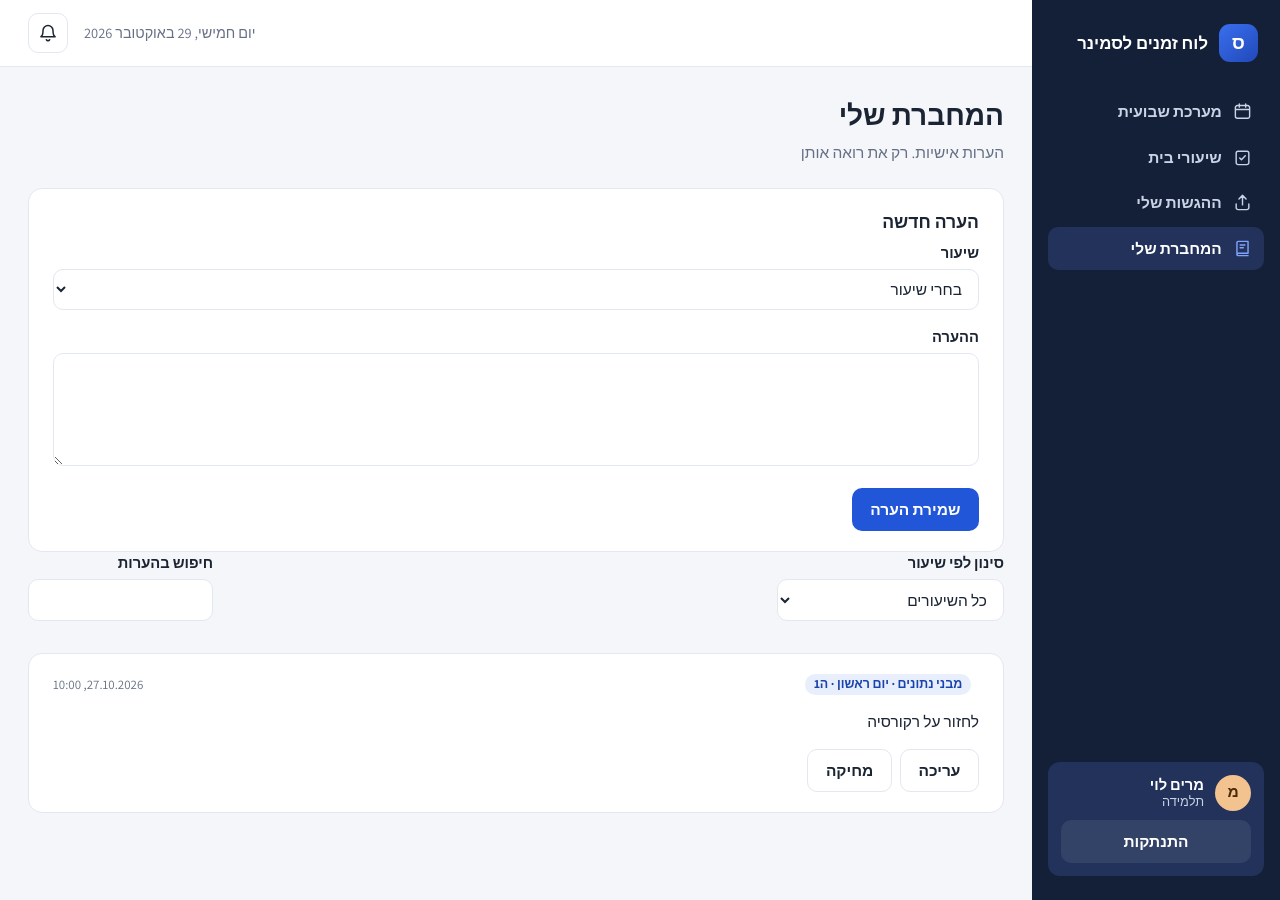
it: מחברת אישית › מחיקה דורשת אישור, ורק אחריו נשלחת לשרת
The image size is (1280, 900).
Expected: the text "לחזור על רקורסיה" is shown, [867,711,979,731]
Click the button "מחיקה" at [850, 770], box [807,749,892,792]
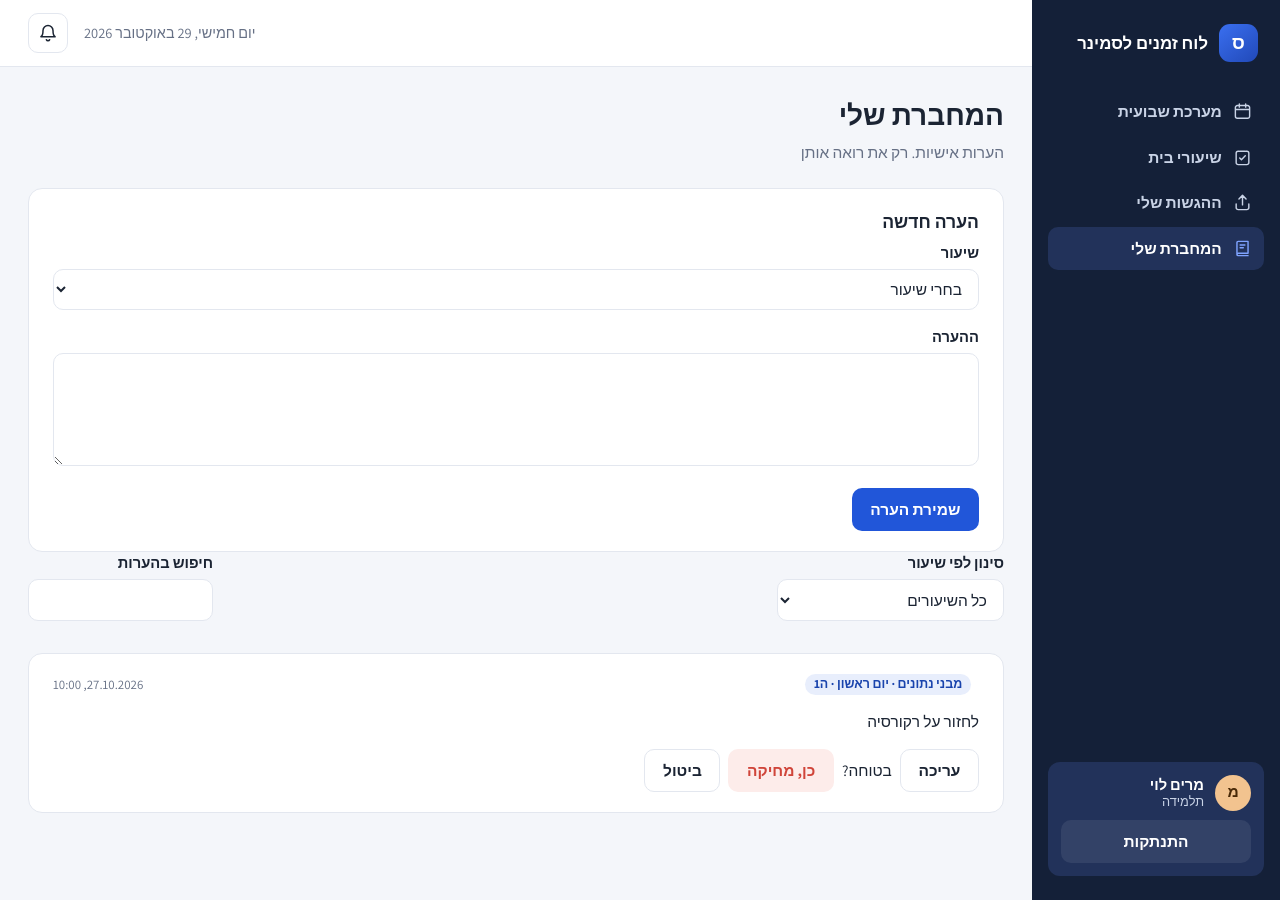
Now the text "בטוחה?" is shown, box [842,759,892,782]
Click the button "ביטול" at [682, 770], box [644,749,720,792]
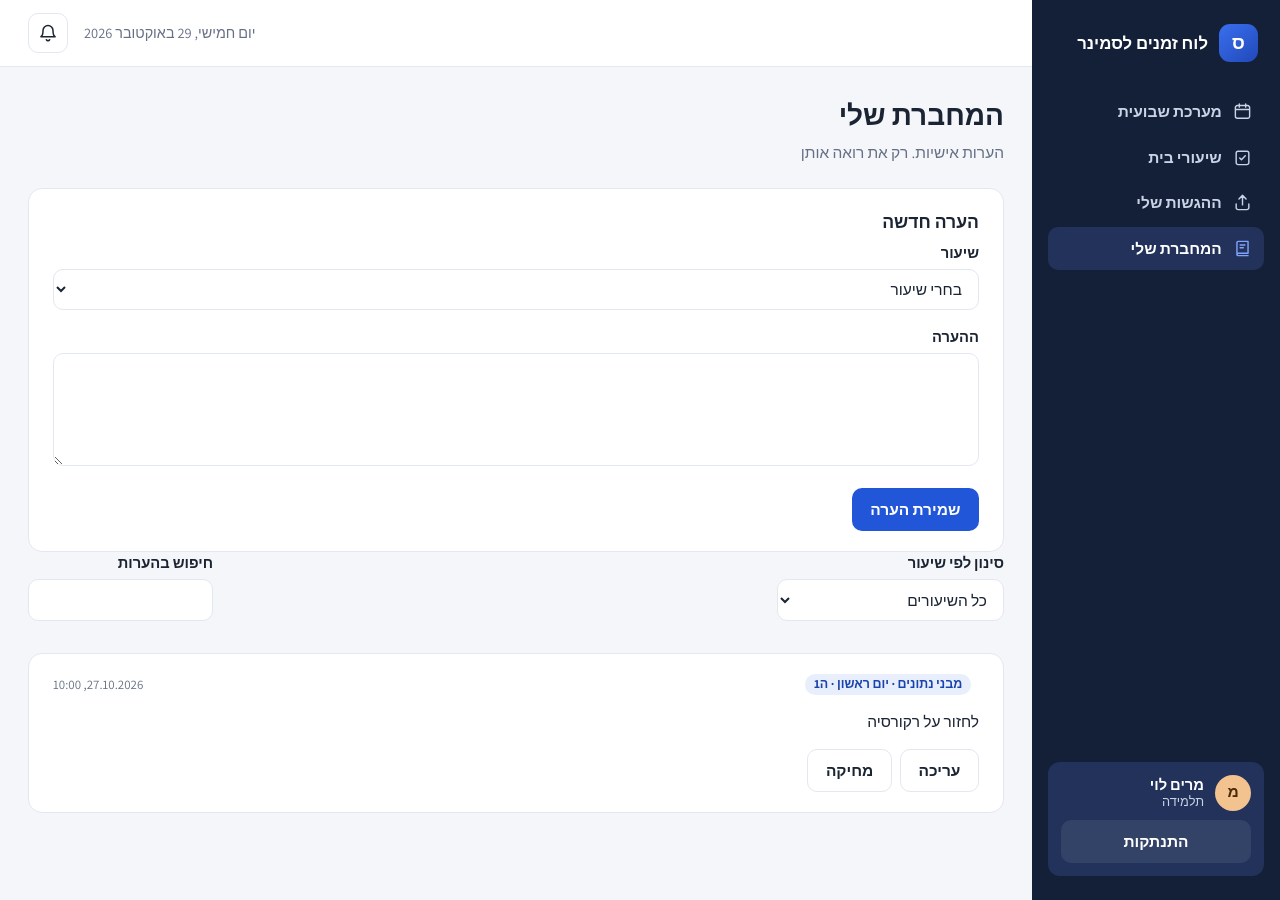
Click the button "מחיקה" at [850, 770], box [807,749,892,792]
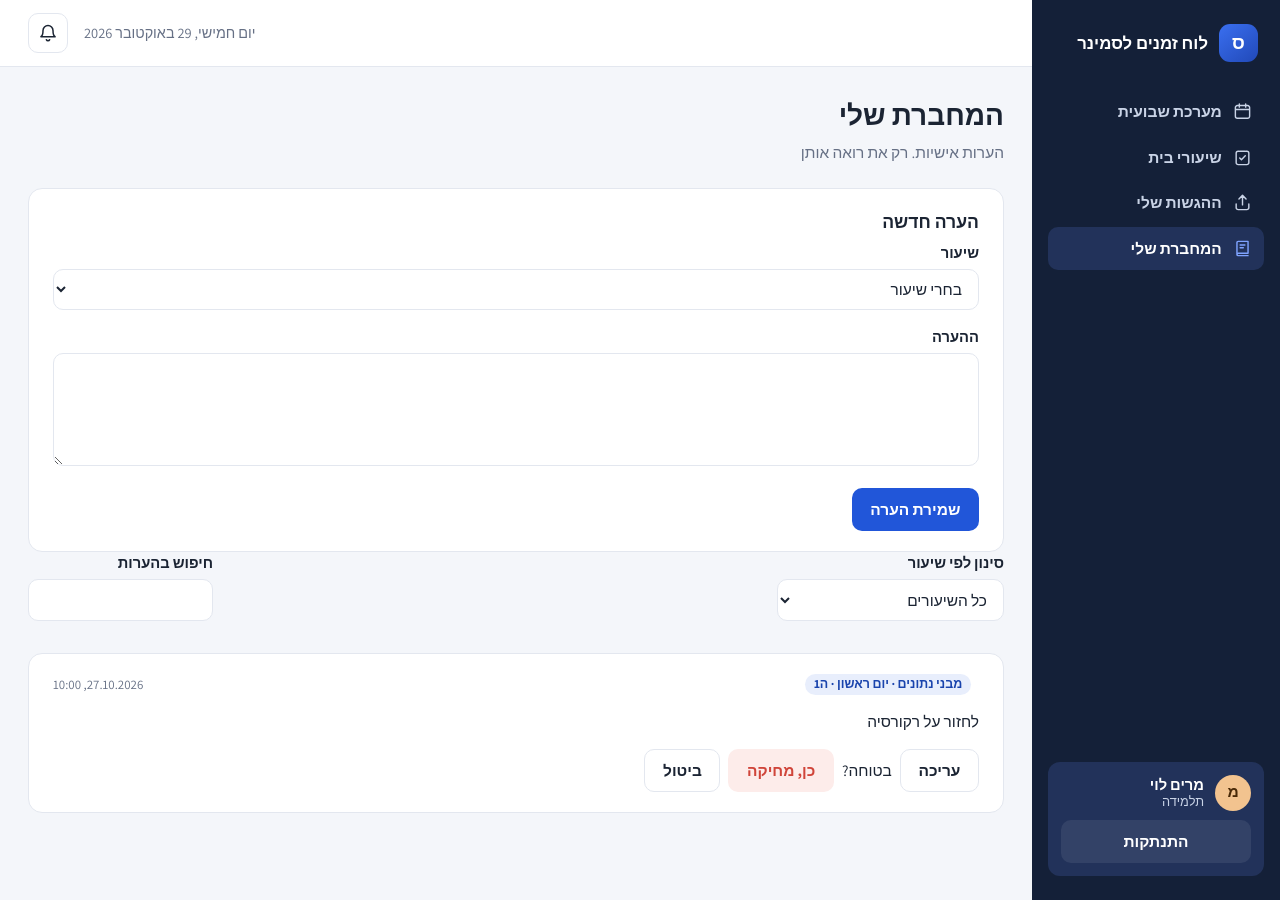
Click the button "כן, מחיקה" at [781, 770], box [728,749,834,792]
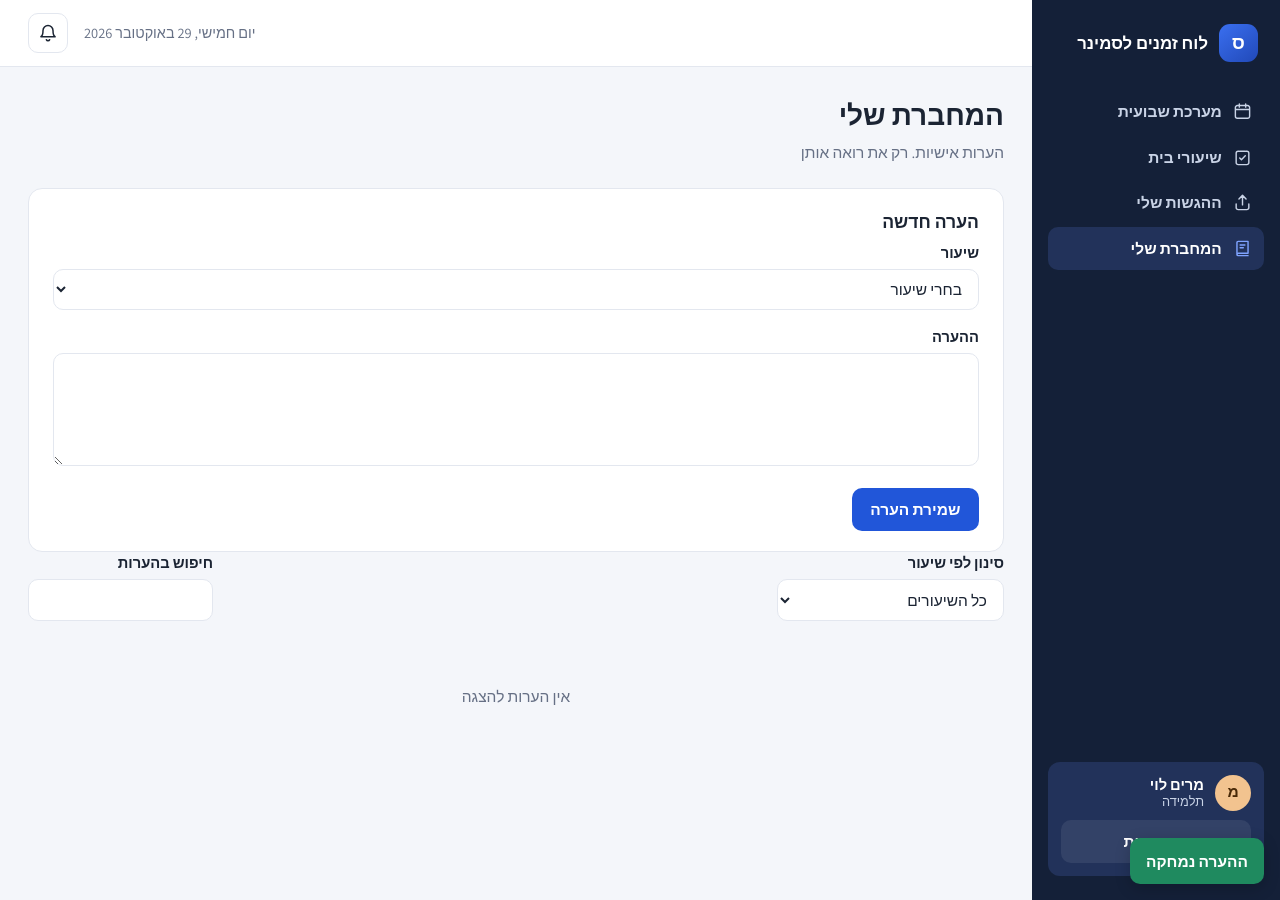
Now the text "ההערה נמחקה" is shown, box [1130,838,1264,884]
Now the text "לחזור על רקורסיה" is gone
